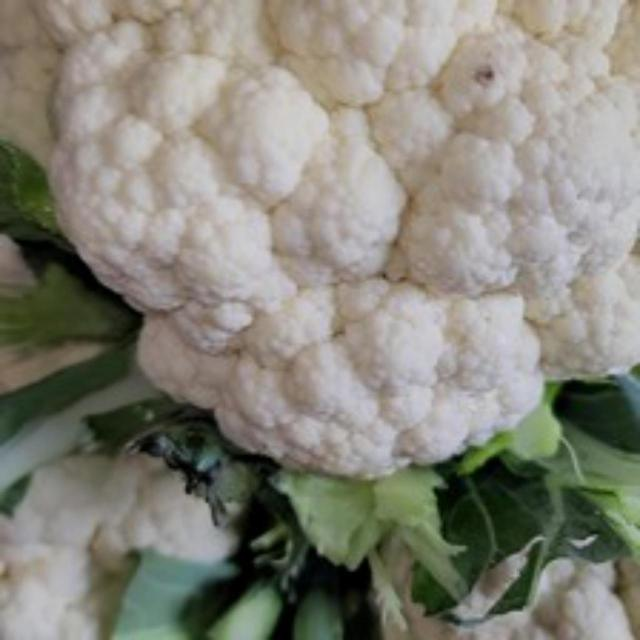cauliflower: (0, 0, 638, 486)
